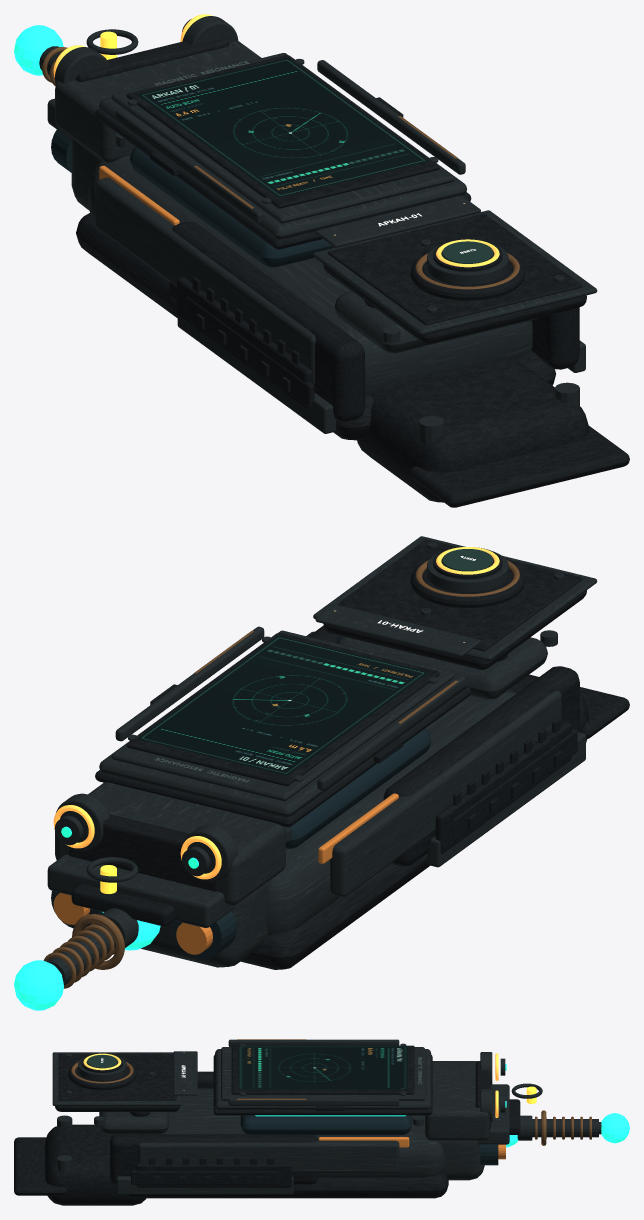
File: arkan-v113-draco.glb
The picture shows the model from 3 angles, top to bottom: view 1: azimuth 30°, elevation 25°; view 2: azimuth 150°, elevation 25°; view 3: azimuth 270°, elevation 25°; orthographic projection. The views are drawn at different scales.
Visible parts, largest first — view 1: GZ110_ORIGINAL_V37_CORE_RETAINED, GZ110_MFD_SCREEN, GZ112_AR_ControlInsert, GZ110_Side_Alloy_Reinforcement, GZ111_Heel_ProtectiveGasket, GZ110_Head_Reinforced_Base, GZ110_CNC_Inner_GraphiteRim, GZ110_CNC_Display_Titanium_Rim, GZ110_CNC_MFD_Outer_Gasket, GZ112_AR_PanelRim, GZ112_AR_EngravedNameplate, GZ110_Side_Elastic_Bumper (+12 smaller); view 2: GZ110_ORIGINAL_V37_CORE_RETAINED, GZ110_MFD_SCREEN, GZ110_Side_Alloy_Reinforcement, GZ112_AR_ControlInsert, GZ110_Head_Reinforced_Base, GZ110_CNC_Inner_GraphiteRim, GZ111_Emitter_BottomArmature, GZ110_Head_Insulating_Bridge, GZ110_CNC_Display_Titanium_Rim, GZ110_CNC_MFD_Outer_Gasket, GZ110_CNC_Sealed_Display_Gasket, GZ112_AR_EngravedNameplate (+18 smaller); view 3: GZ110_ORIGINAL_V37_CORE_RETAINED, GZ110_MFD_SCREEN, GZ110_Side_Alloy_Reinforcement.001, GZ110_Head_Reinforced_Base, GZ112_AR_ControlInsert, GZ110_CNC_Inner_GraphiteRim, GZ110_Side_Elastic_Bumper.001, GZ111_Heel_ProtectiveGasket, GZ111_Bumper_RecessedRubber.001, GZ110_CNC_MFD_Outer_Gasket, GZ110_CNC_Sealed_Display_Gasket, GZ110_CNC_Display_Titanium_Rim (+17 smaller).
Part boxes in pixels (box(x1,y1,x2,y2)): GZ110_ORIGINAL_V37_CORE_RETAINED: box(14, 25, 588, 502); GZ110_MFD_SCREEN: box(137, 57, 428, 197); GZ112_AR_ControlInsert: box(327, 213, 582, 325); GZ110_Side_Alloy_Reinforcement: box(95, 177, 315, 384); GZ111_Heel_ProtectiveGasket: box(409, 426, 629, 507); GZ110_Head_Reinforced_Base: box(55, 41, 261, 162); GZ110_CNC_Inner_GraphiteRim: box(111, 53, 454, 223); GZ110_CNC_Display_Titanium_Rim: box(99, 55, 466, 239); GZ110_CNC_MFD_Outer_Gasket: box(126, 55, 439, 208); GZ112_AR_PanelRim: box(313, 210, 597, 335); GZ112_AR_EngravedNameplate: box(315, 195, 480, 247); GZ110_Side_Elastic_Bumper: box(177, 277, 312, 409); GZ110_ORIGINAL_V37_CORE_RETAINED: box(14, 625, 588, 1010); GZ110_MFD_SCREEN: box(137, 635, 428, 775); GZ110_Side_Alloy_Reinforcement: box(330, 690, 561, 896); GZ112_AR_ControlInsert: box(337, 539, 582, 651); GZ110_Head_Reinforced_Base: box(55, 782, 285, 905); GZ110_CNC_Inner_GraphiteRim: box(111, 630, 454, 801); GZ111_Emitter_BottomArmature: box(47, 855, 234, 927); GZ110_Head_Insulating_Bridge: box(69, 814, 217, 891); GZ110_CNC_Display_Titanium_Rim: box(99, 633, 466, 816); GZ110_CNC_MFD_Outer_Gasket: box(126, 633, 439, 786); GZ110_CNC_Sealed_Display_Gasket: box(95, 686, 471, 827); GZ112_AR_EngravedNameplate: box(315, 604, 480, 656); GZ110_ORIGINAL_V37_CORE_RETAINED: box(45, 1071, 629, 1205); GZ110_MFD_SCREEN: box(238, 1045, 407, 1089); GZ110_Side_Alloy_Reinforcement.001: box(138, 1140, 399, 1173); GZ110_Head_Reinforced_Base: box(425, 1061, 490, 1140); GZ112_AR_ControlInsert: box(58, 1053, 176, 1100); GZ110_CNC_Inner_GraphiteRim: box(221, 1047, 425, 1100); GZ110_Side_Elastic_Bumper.001: box(136, 1163, 291, 1187); GZ111_Heel_ProtectiveGasket: box(14, 1137, 66, 1195); GZ111_Bumper_RecessedRubber.001: box(131, 1170, 278, 1184); GZ110_CNC_MFD_Outer_Gasket: box(231, 1045, 414, 1094); GZ110_CNC_Sealed_Display_Gasket: box(213, 1055, 432, 1115); GZ110_CNC_Display_Titanium_Rim: box(215, 1049, 431, 1109).
Bounding box in the file's own units: 0.1255 × 0.0924 × 0.4075.
28 materials, 18 textured.
